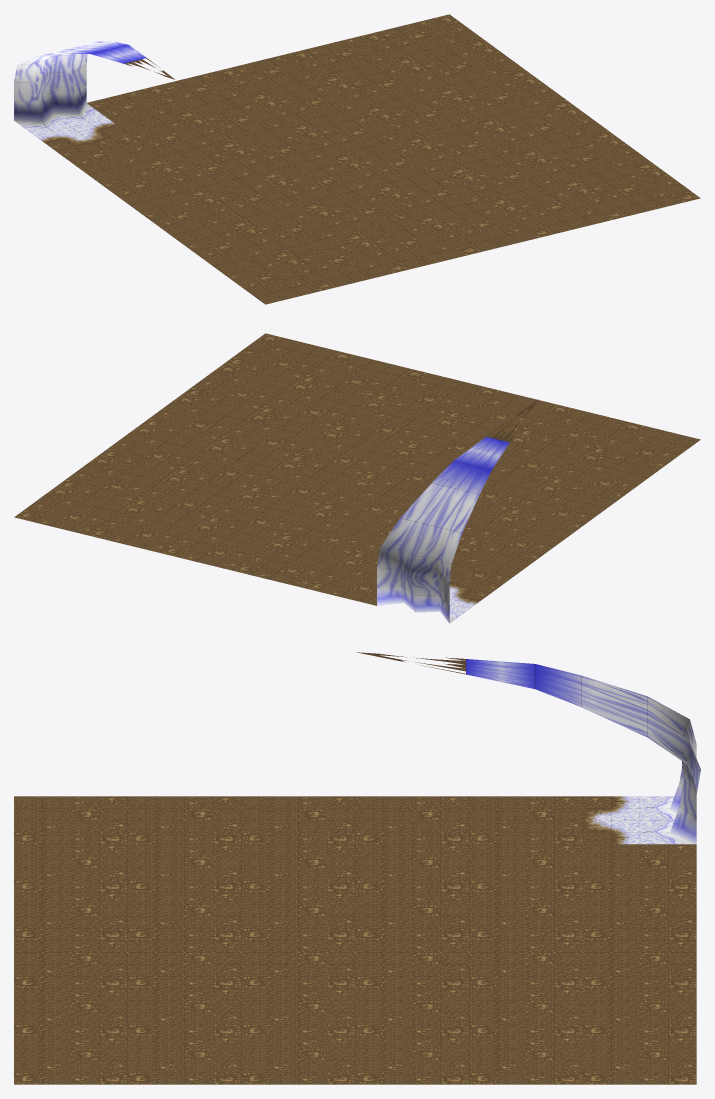
3 views of the same model, one above another, from view 1: azimuth 30°, elevation 25°; view 2: azimuth 150°, elevation 25°; view 3: azimuth 270°, elevation 25° (orthographic). The views are drawn at different scales.
Visible parts, largest first — view 1: 0d66800_0, 0d66800_5, 0d66800_13, 0d66800_22, 0d66800_30, 0d66800_8, 0d66800_9, 0d66800_26, 0d66800_27, 0d66800_10, 0d66800_11, 0d66800_12 (+24 smaller); view 2: 0d66800_0, 0d66800_16, 0d66800_35, 0d66800_8, 0d66800_9, 0d66800_27, 0d66800_12, 0d66800_17, 0d66800_18, 0d66800_22, 0d66800_23, 0d66800_28 (+24 smaller); view 3: 0d66800_0, 0d66800_12, 0d66800_17, 0d66800_25, 0d66800_29, 0d66800_13, 0d66800_14, 0d66800_15, 0d66800_16, 0d66800_18, 0d66800_19, 0d66800_20 (+24 smaller).
Boxes of the visible parts, bbox=[...] form: 0d66800_0: bbox=[14, 41, 175, 150]; 0d66800_5: bbox=[377, 14, 490, 62]; 0d66800_13: bbox=[170, 146, 284, 194]; 0d66800_22: bbox=[430, 124, 544, 172]; 0d66800_30: bbox=[224, 256, 337, 304]; 0d66800_8: bbox=[201, 98, 314, 146]; 0d66800_9: bbox=[274, 80, 387, 128]; 0d66800_26: bbox=[327, 190, 440, 238]; 0d66800_27: bbox=[400, 172, 513, 220]; 0d66800_10: bbox=[346, 62, 460, 110]; 0d66800_11: bbox=[419, 45, 532, 93]; 0d66800_12: bbox=[98, 164, 211, 212]; 0d66800_0: bbox=[377, 399, 538, 623]; 0d66800_16: bbox=[170, 443, 284, 491]; 0d66800_35: bbox=[224, 333, 337, 381]; 0d66800_8: bbox=[274, 509, 387, 557]; 0d66800_9: bbox=[201, 491, 314, 539]; 0d66800_27: bbox=[327, 399, 440, 447]; 0d66800_12: bbox=[461, 514, 574, 562]; 0d66800_17: bbox=[98, 425, 211, 473]; 0d66800_18: bbox=[503, 483, 616, 531]; 0d66800_22: bbox=[213, 412, 326, 460]; 0d66800_23: bbox=[140, 394, 253, 442]; 0d66800_28: bbox=[254, 381, 368, 429]; 0d66800_0: bbox=[357, 652, 700, 844]; 0d66800_12: bbox=[355, 796, 469, 844]; 0d66800_17: bbox=[355, 1036, 469, 1084]; 0d66800_25: bbox=[127, 844, 241, 892]; 0d66800_29: bbox=[127, 1036, 241, 1084]; 0d66800_13: bbox=[355, 844, 469, 892]; 0d66800_14: bbox=[355, 892, 469, 940]; 0d66800_15: bbox=[355, 940, 469, 988]; 0d66800_16: bbox=[355, 988, 469, 1036]; 0d66800_18: bbox=[241, 796, 355, 844]; 0d66800_19: bbox=[241, 844, 355, 892]; 0d66800_20: bbox=[241, 892, 355, 940].
Size of the model in its own units: 24 by 6.52 by 24.15.
Materials: 1 (1 with a texture image).
